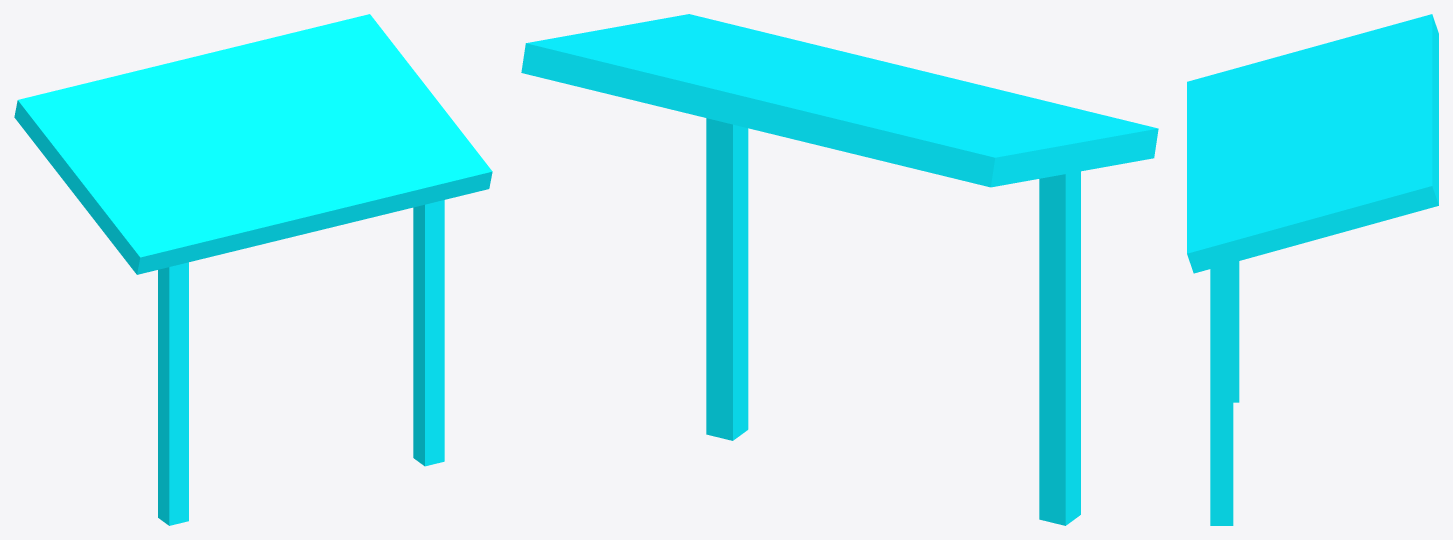
Rendered from SM_Bld_Awning_06_Collision.fbx.
The picture shows the model from 3 angles, left to right: view 1: azimuth 30°, elevation 25°; view 2: azimuth 150°, elevation 25°; view 3: azimuth 270°, elevation 25°; orthographic projection. The views are drawn at different scales.
Visible parts, largest first — view 1: SM_Bld_Awning_06_Collision; view 2: SM_Bld_Awning_06_Collision; view 3: SM_Bld_Awning_06_Collision.
Part boxes in pixels (x1,y1,x2,y2): SM_Bld_Awning_06_Collision: (14,14,492,525); SM_Bld_Awning_06_Collision: (521,14,1158,525); SM_Bld_Awning_06_Collision: (1187,14,1438,525).
Bounding box in the file's own units: 279 × 271 × 173.
